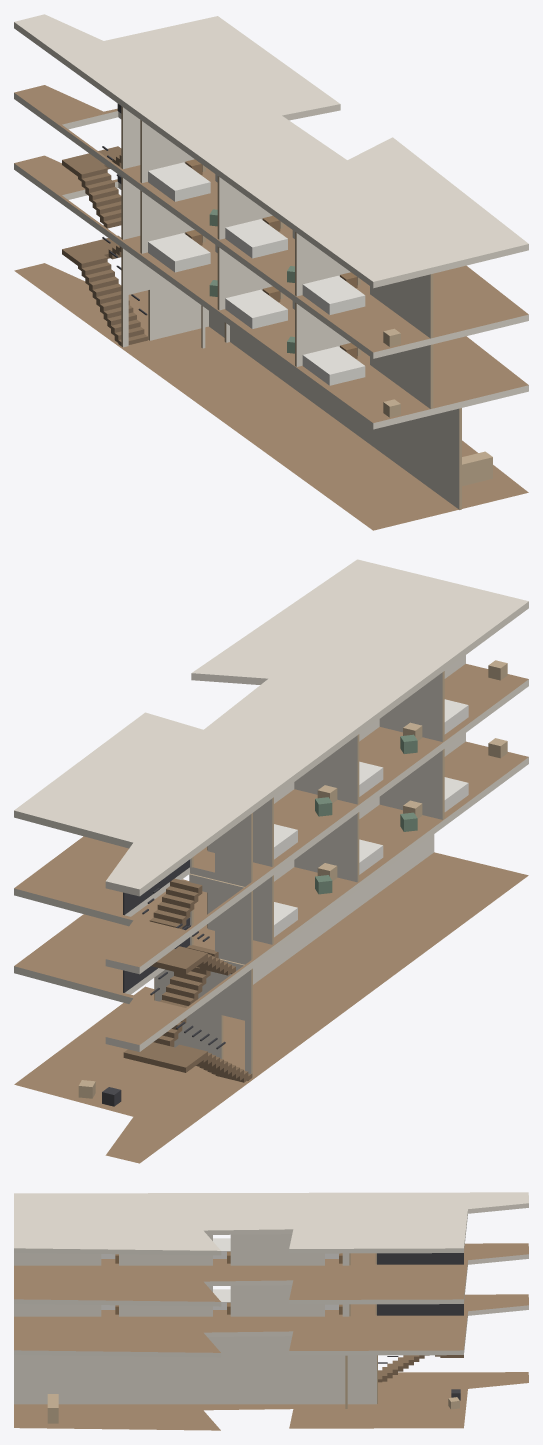
The model's file is interior.glb.
3 renders of one model, top to bottom at view 1: azimuth 30°, elevation 25°; view 2: azimuth 150°, elevation 25°; view 3: azimuth 270°, elevation 25°, orthographic. The views are drawn at different scales.
Visible parts, largest first — view 1: slabs, partitions, stair, coarse-s1, coarse-s2, coarse-s0; view 2: slabs, partitions, stair, coarse-s2, coarse-s1; view 3: slabs, partitions, stair, coarse-s0, coarse-s1, coarse-s2.
Boxes of the visible parts, box(x1,y1,x2,y2) form: slabs: box(14, 14, 528, 530); partitions: box(121, 106, 461, 509); stair: box(62, 103, 147, 345); coarse-s1: box(148, 230, 400, 417); coarse-s2: box(148, 159, 400, 346); coarse-s0: box(462, 451, 492, 486); slabs: box(14, 559, 528, 1163); partitions: box(154, 655, 465, 1077); stair: box(123, 859, 252, 1082); coarse-s2: box(274, 660, 507, 859); coarse-s1: box(274, 738, 507, 937); slabs: box(14, 1192, 528, 1430); partitions: box(14, 1234, 377, 1408); stair: box(377, 1253, 463, 1382); coarse-s0: box(47, 1389, 460, 1423); coarse-s1: box(101, 1289, 342, 1314); coarse-s2: box(101, 1238, 342, 1263).
Size of the model in its own units: 7.06 by 10.14 by 26.28.
